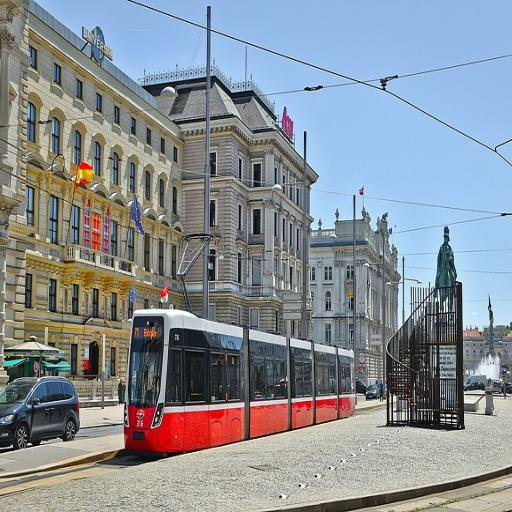Flexity: (123, 302, 357, 458)
